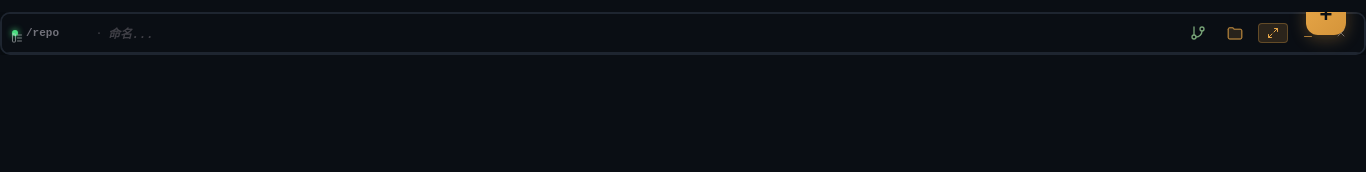
it: M6 批A tile 头两按钮 › live worktree 按钮点击 → 开浮层，不冒泡 tileClick
Click the button with class "tile-worktree-btn".
click(1198, 33)  # box [1184, 21, 1212, 45]
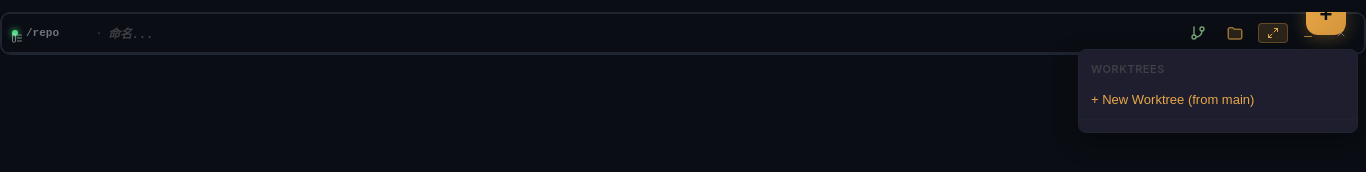
Expected: the element with class "worktree-popover" is shown, [1078, 49, 1358, 133]
